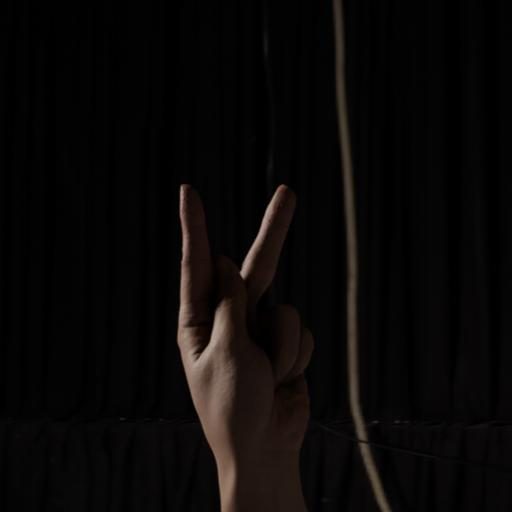K: (153, 168, 331, 472)
